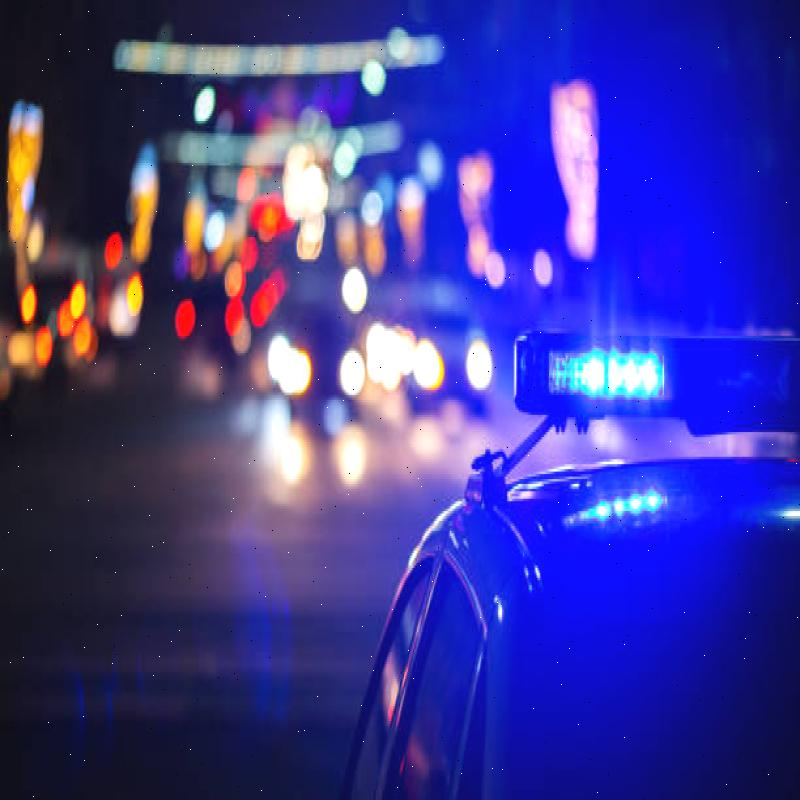AmbulanceSiren: (478, 309, 798, 457)
